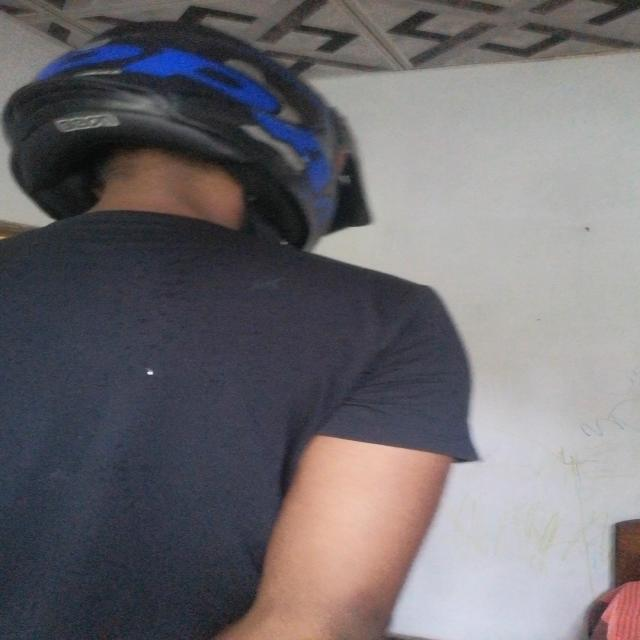Helmet_Wearer: (0, 28, 427, 268)
